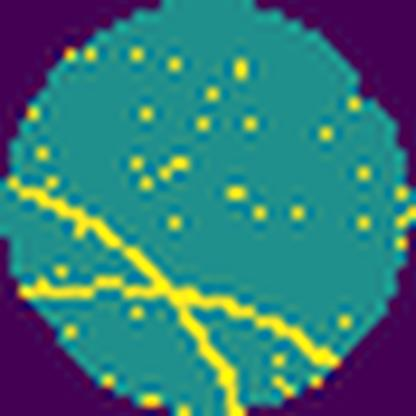Scratch: (6, 175, 342, 416)
